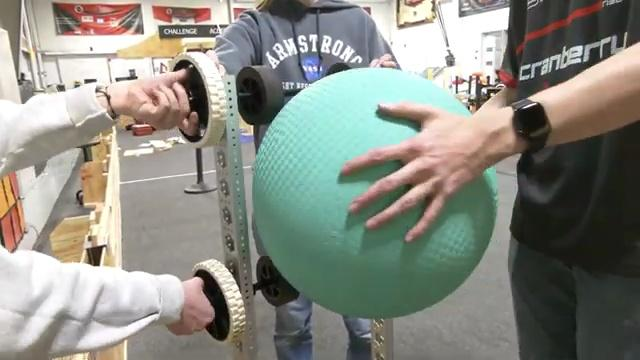ALGAE: (250, 65, 499, 319)
